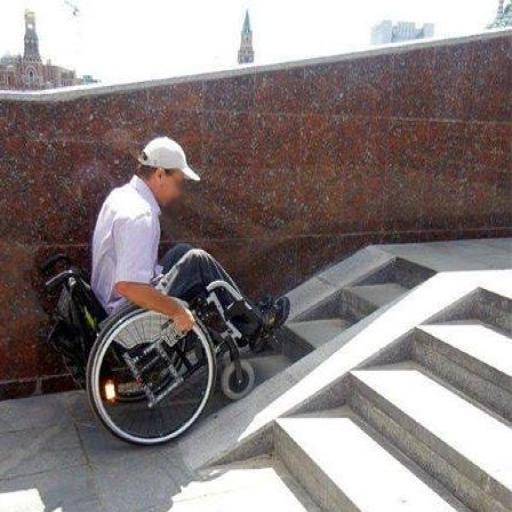entrance: (116, 234, 494, 479)
laptop: (274, 293, 512, 512)
road: (41, 254, 264, 445)
